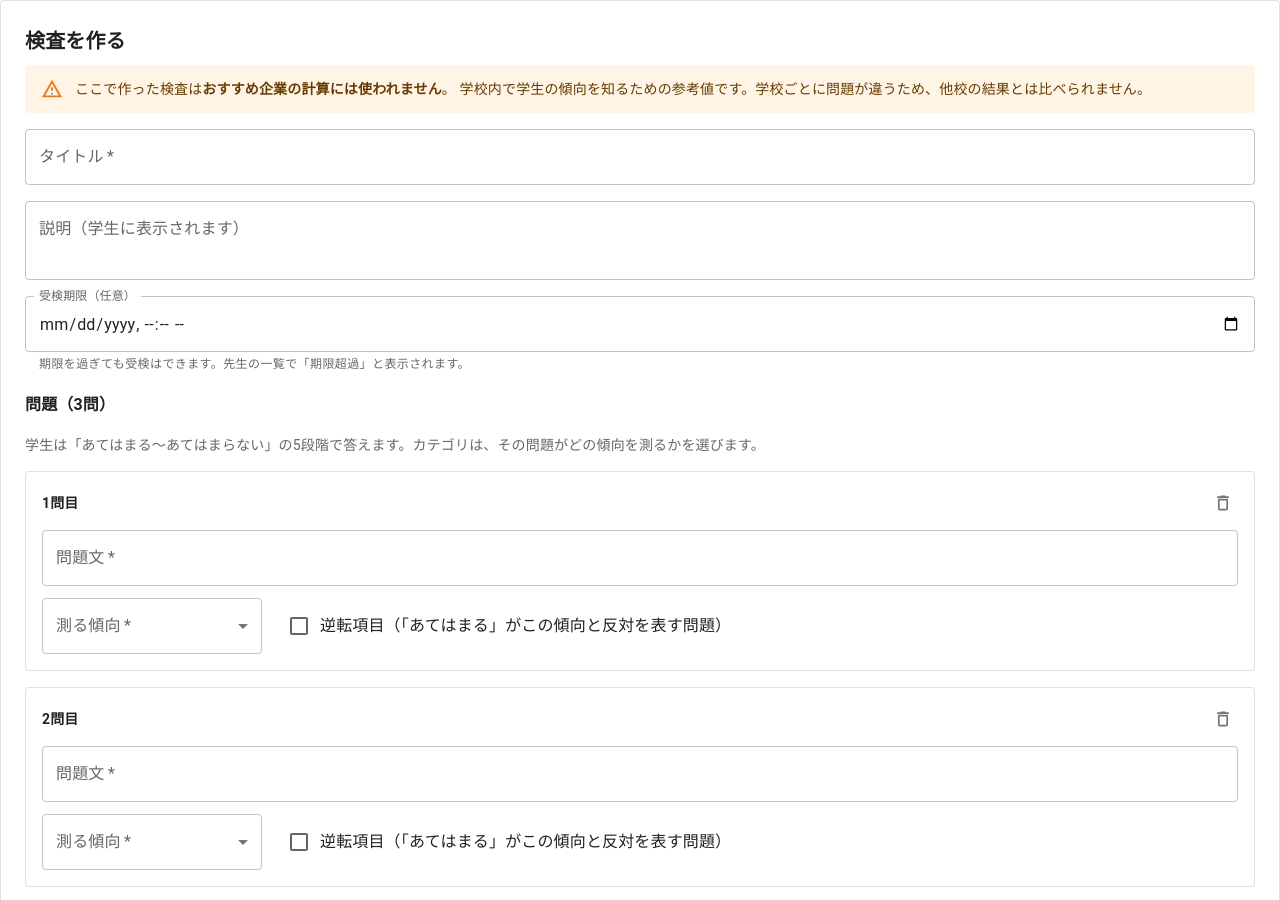
Test case: TemplateForm › カテゴリの選択肢はサーバーが返した正典だけ（自由入力させない）
Press the mouse on the 1st dropdown named "測る傾向" at (152, 626), box x1=42 y1=598 x2=262 y2=654
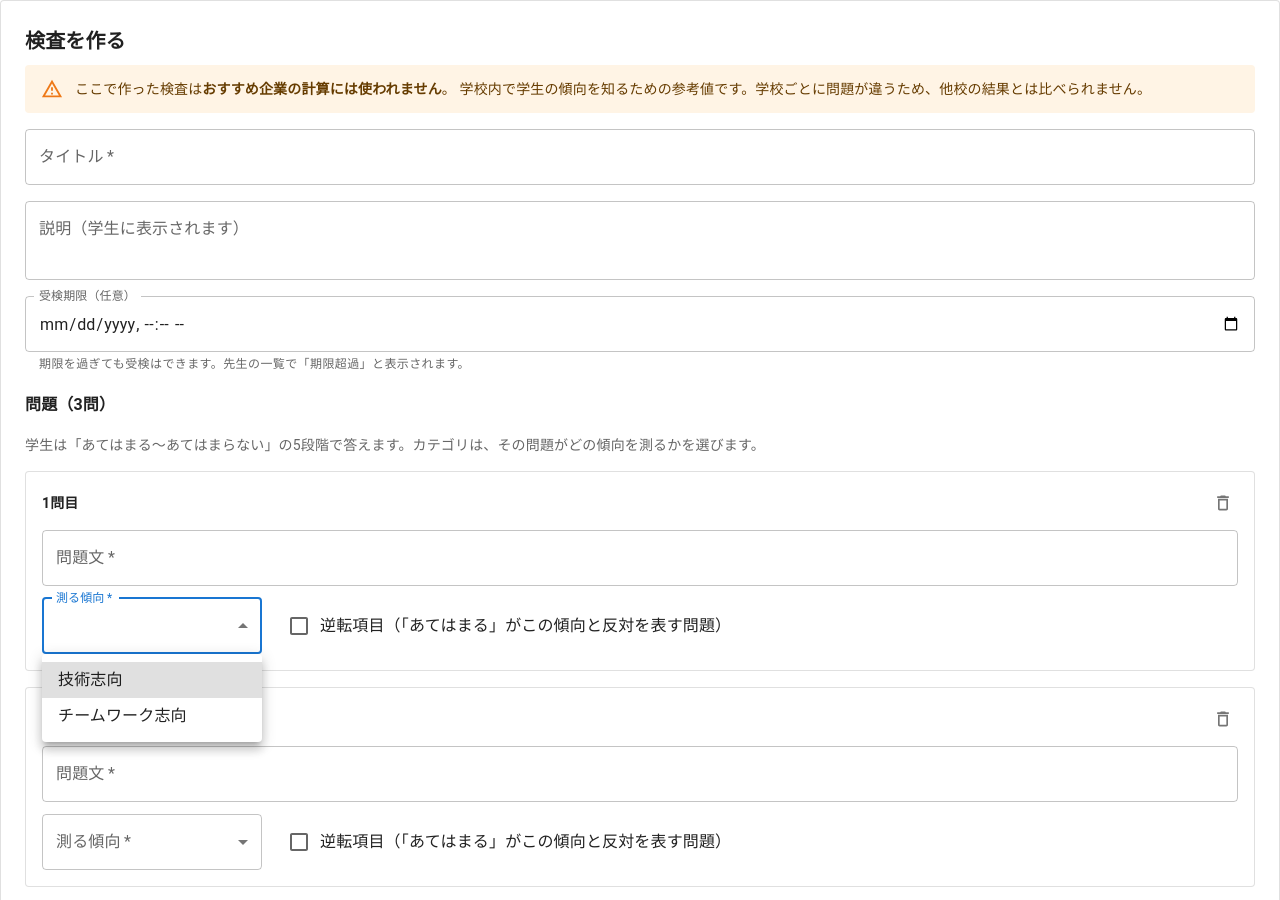
Expected: the options read "技術志向", "チームワーク志向", in this order, x1=42 y1=662 x2=262 y2=698; x1=58 y1=706 x2=187 y2=725
